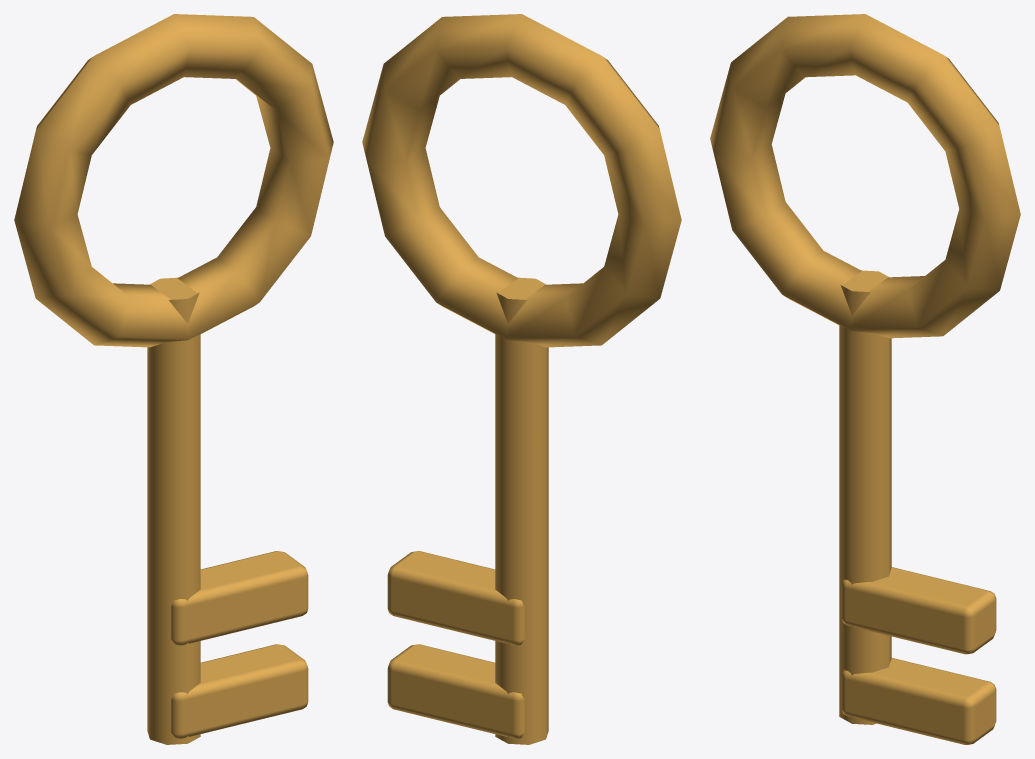
The model's file is dungeon-key.glb.
3 renders of one model, left to right at view 1: azimuth 30°, elevation 25°; view 2: azimuth 150°, elevation 25°; view 3: azimuth 330°, elevation 25°, orthographic. The views are drawn at different scales.
Visible parts, largest first — view 1: bow, shaft, tooth-0.18, tooth-0.31; view 2: bow, shaft, tooth-0.18, tooth-0.31; view 3: bow, shaft, tooth-0.31, tooth-0.18.
Part boxes in pixels (x1,y1,x2,y2): bow: (14, 14, 333, 347); shaft: (147, 277, 200, 744); tooth-0.18: (171, 644, 308, 738); tooth-0.31: (171, 551, 308, 645); bow: (362, 14, 681, 347); shaft: (495, 277, 548, 744); tooth-0.18: (387, 644, 524, 738); tooth-0.31: (387, 551, 524, 645); bow: (710, 14, 1020, 338); shaft: (839, 270, 891, 724); tooth-0.31: (841, 567, 996, 654); tooth-0.18: (841, 658, 996, 744).
Size of the model in its own units: 0.466 by 1 by 0.0818.
